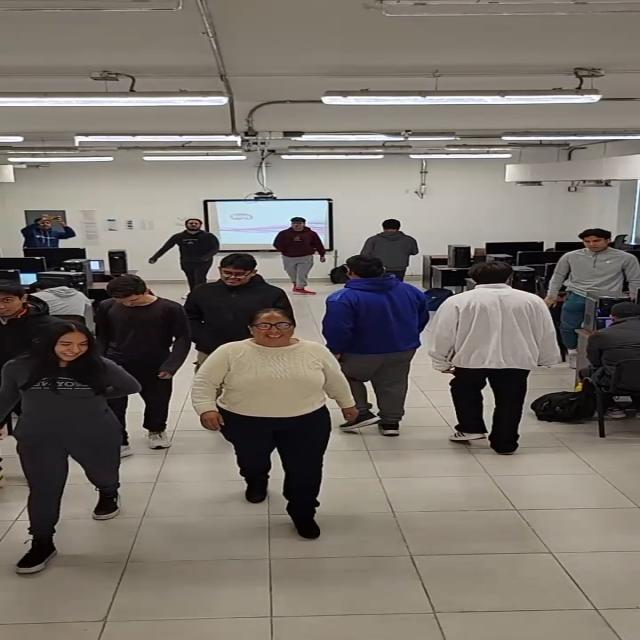Persona: (194, 310, 334, 512), (5, 323, 124, 528), (426, 261, 569, 422), (337, 259, 421, 412), (99, 277, 180, 387), (553, 225, 640, 302), (195, 254, 294, 311), (152, 215, 214, 284), (2, 279, 53, 337), (282, 217, 322, 290), (374, 217, 412, 271), (20, 213, 70, 253)
